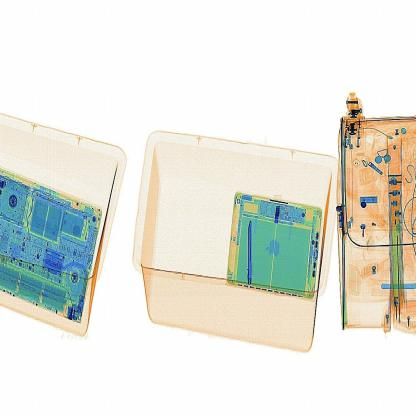pliers: (238, 213, 263, 296)
